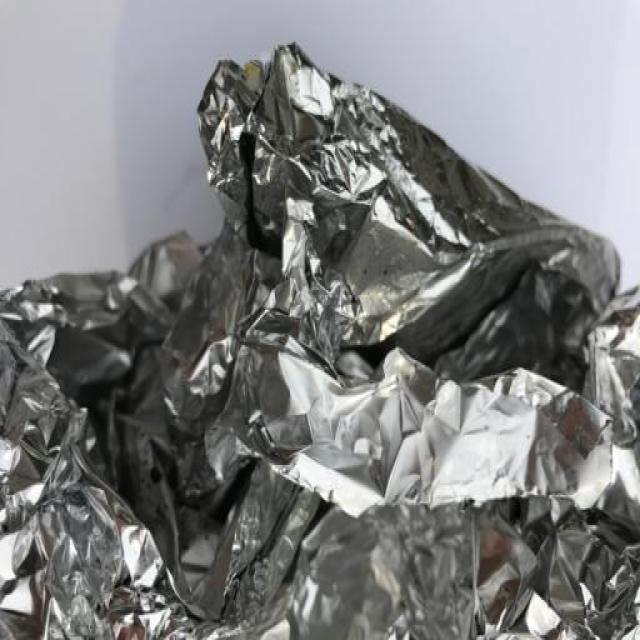Metal: (0, 42, 640, 640)
